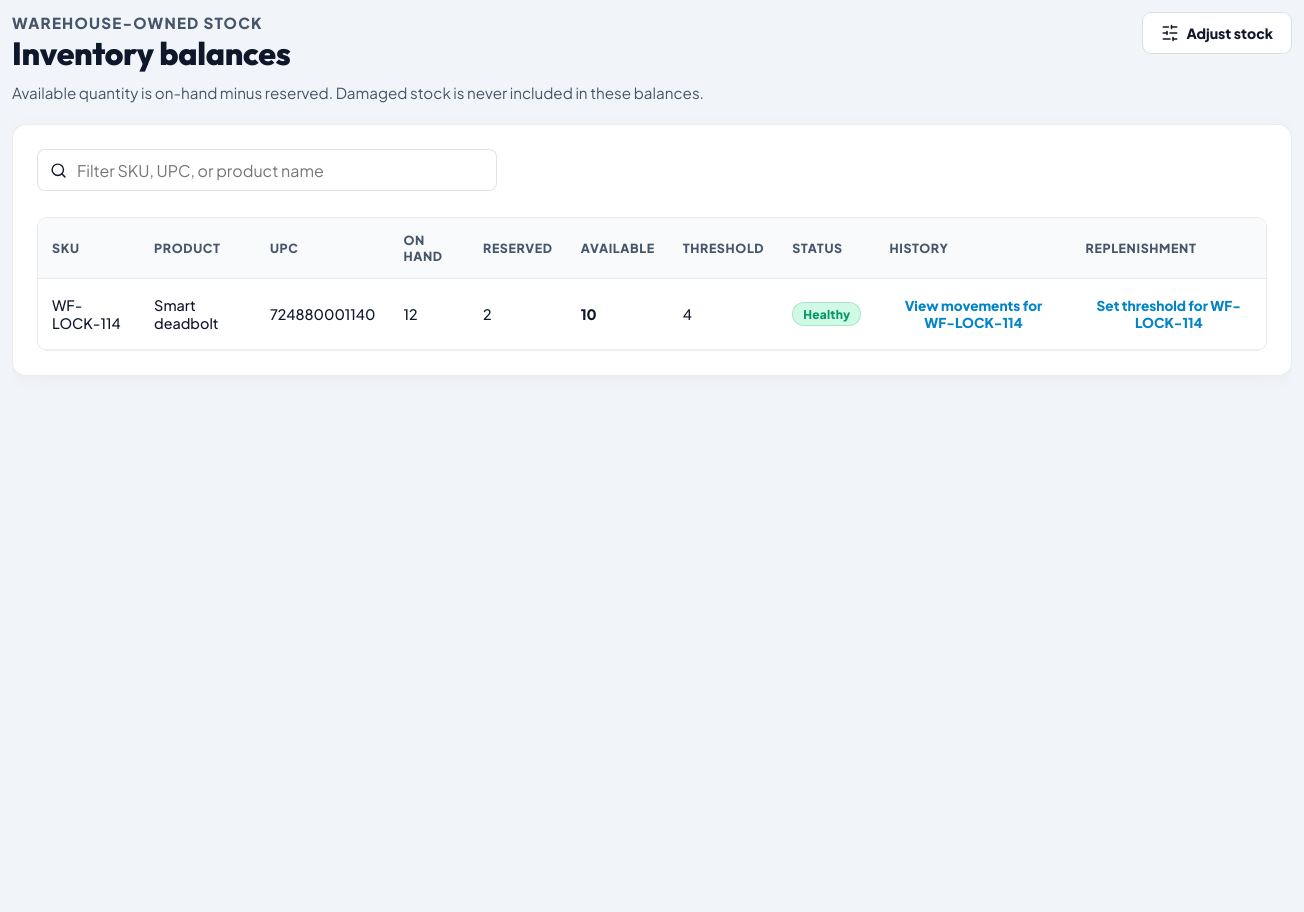
InventoryPage manager controls › loads older immutable movements with the returned cursor
The image size is (1304, 912).
Click the button "View movements for WF-LOCK-114" at [973, 314], box [889,293,1058,335]
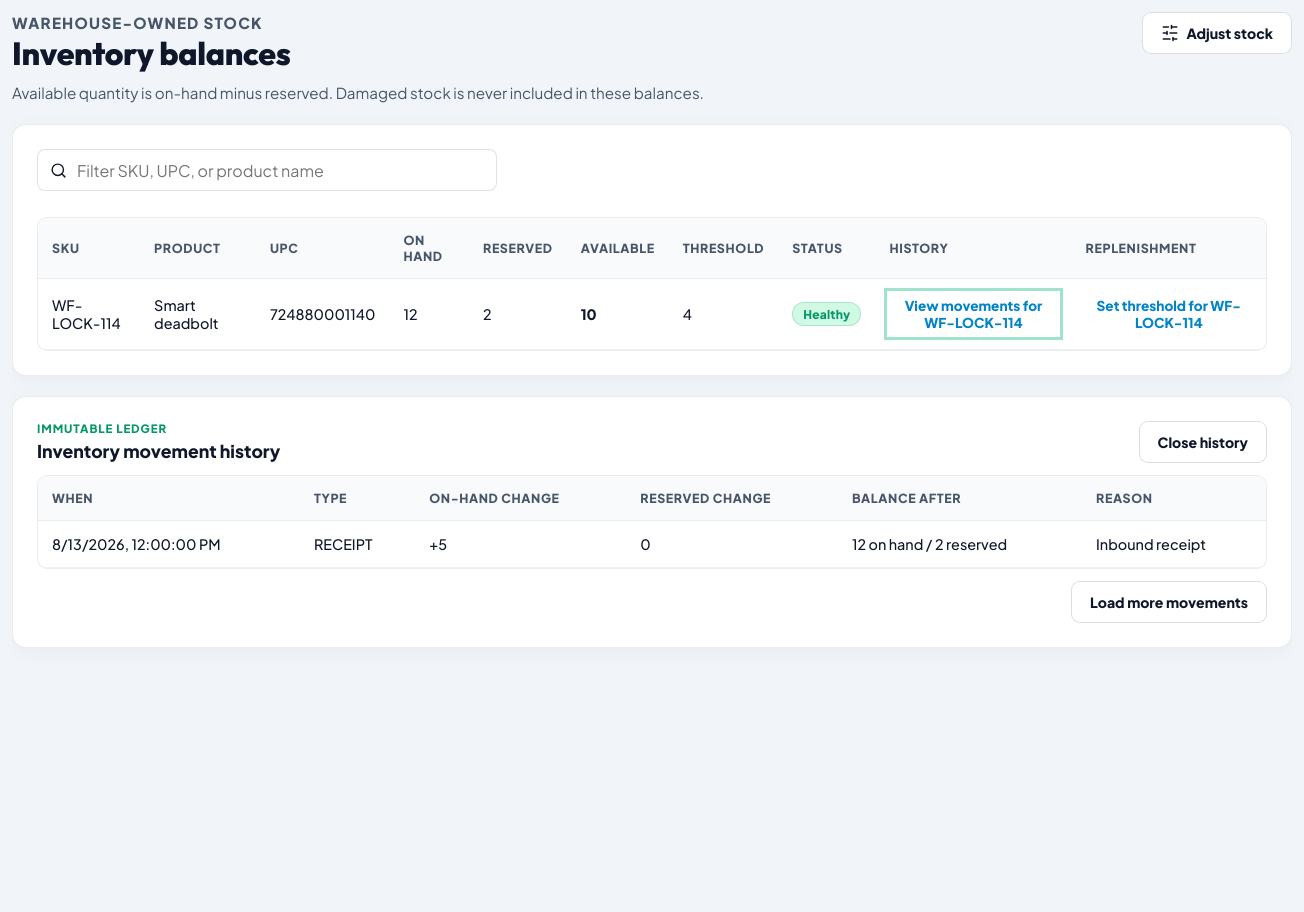
expect the text "Inbound receipt" is shown: met, box [1082,521,1266,568]
Click the button "Load more movements" at [1169, 602], box [1071,581,1267,623]
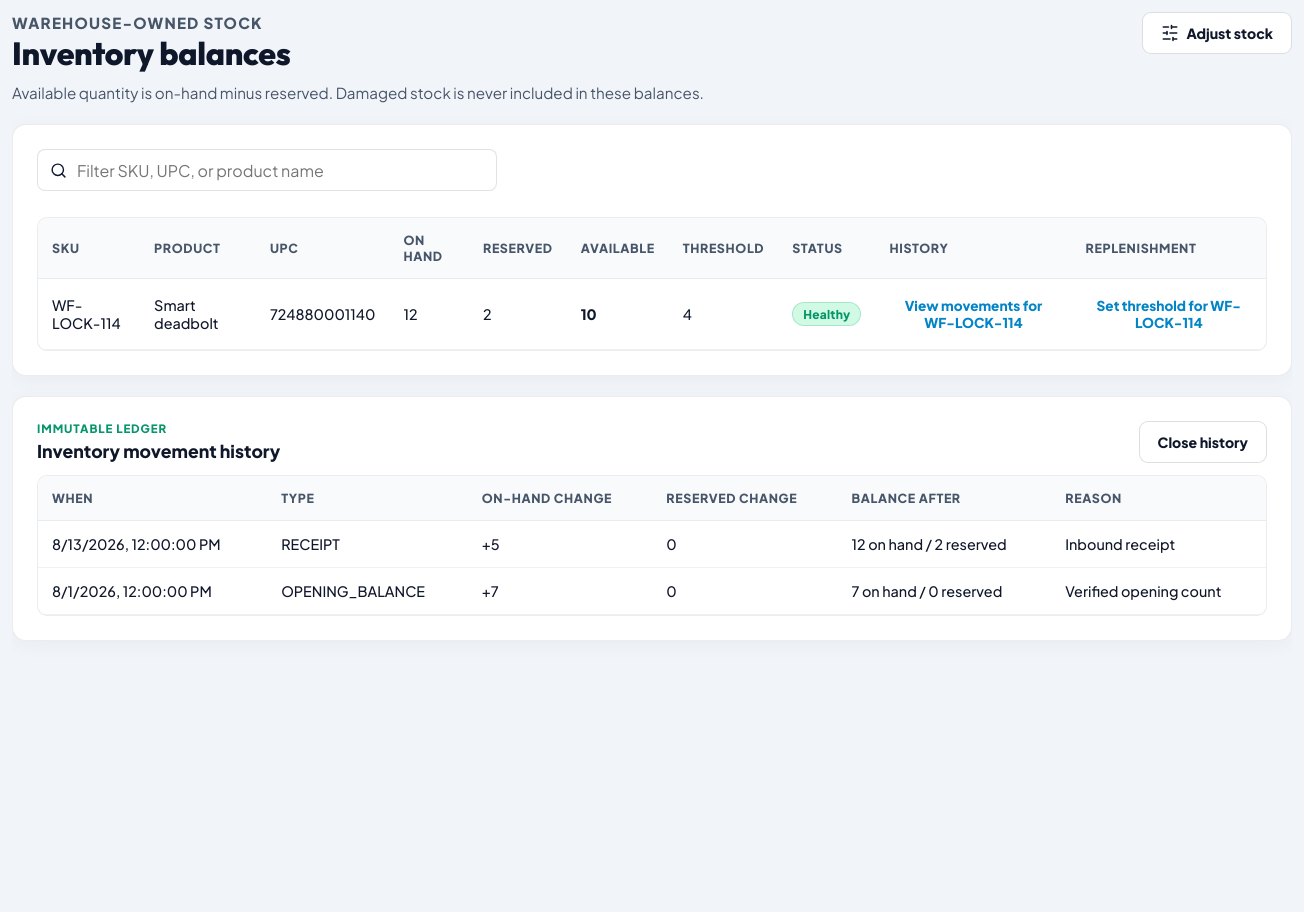
expect the text "Inbound receipt" is shown: met, box [1051,521,1266,568]
expect the text "Verified opening count" is shown: met, box [1051,568,1266,615]
